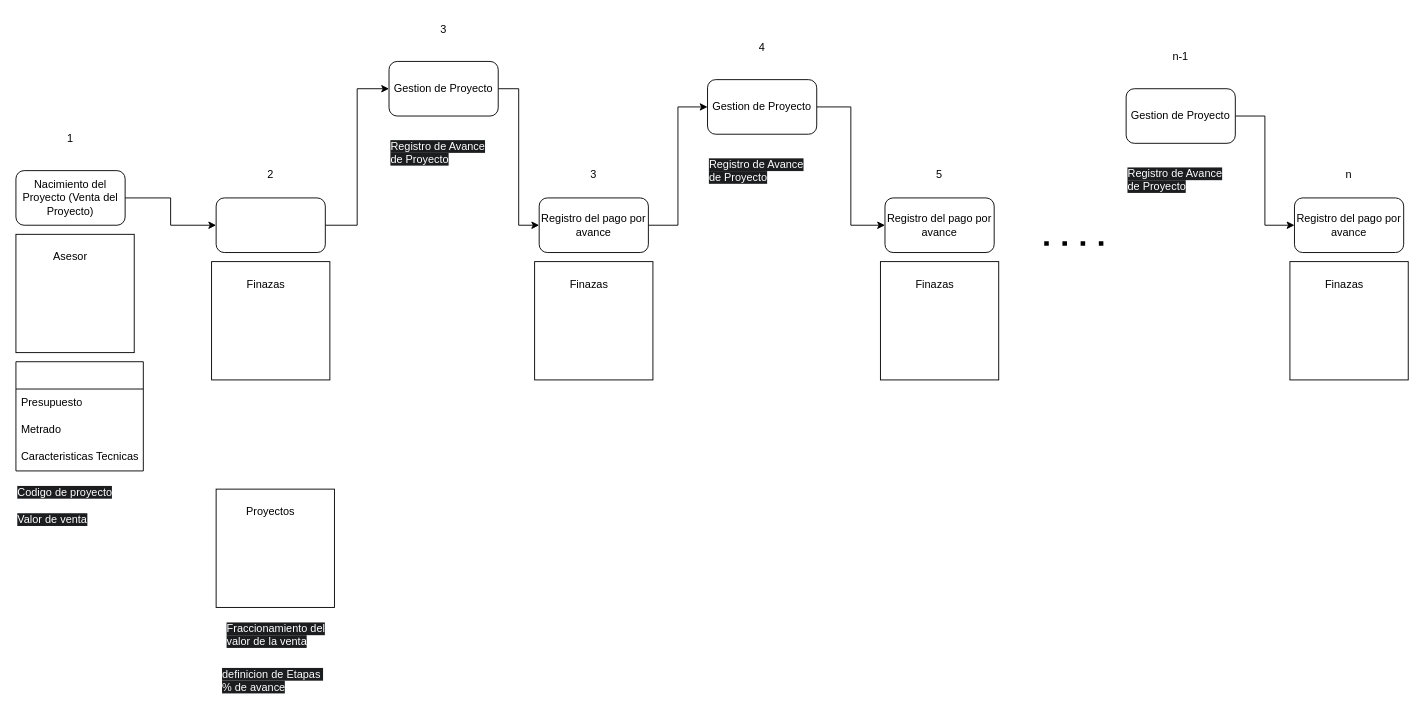
Some shapes in this 1424 by 713 pixel diagram are drawn without their labels. The shapes that lost their labels are listed below. From the top down, each one's box as (x1, y1, x2, y2) in pixels, then its label:
(215, 197, 325, 253): Registro del Adelanto
(15, 361, 143, 471): List
